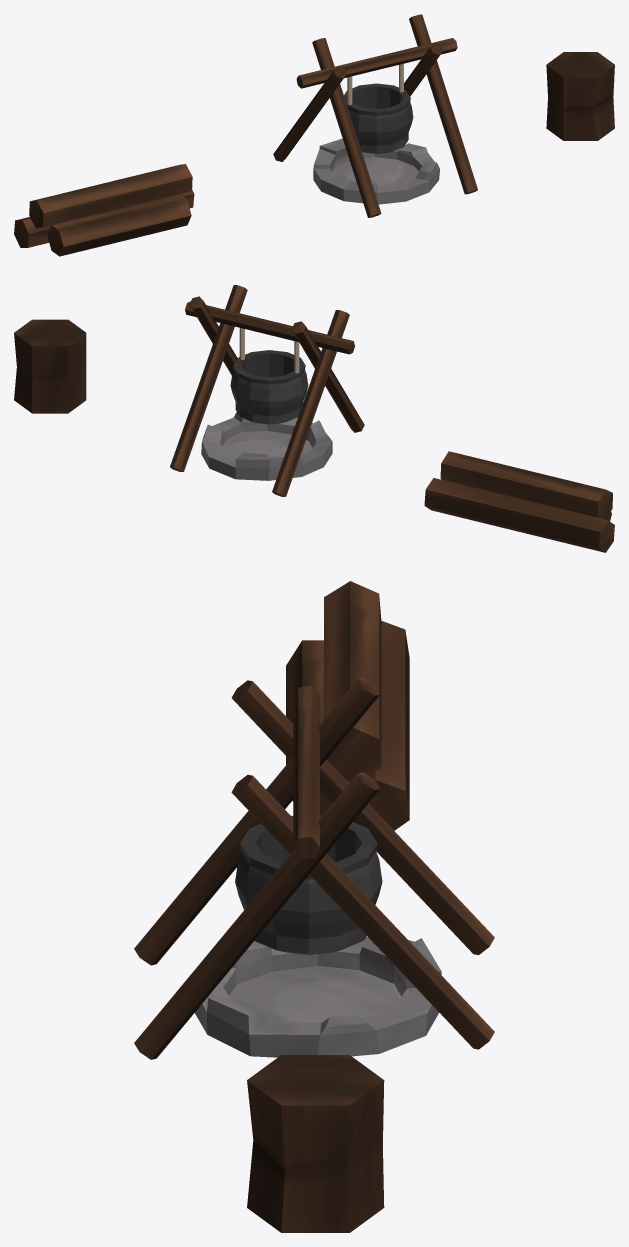
File: camp.glb
3 renders of one model, top to bottom at view 1: azimuth 30°, elevation 25°; view 2: azimuth 150°, elevation 25°; view 3: azimuth 270°, elevation 25°, orthographic. The views are drawn at different scales.
Visible parts, largest first — view 1: Object_2; view 2: Object_2; view 3: Object_2.
Boxes of the visible parts, x1,y1,x2,y2 form: Object_2: [14, 14, 614, 256]; Object_2: [14, 285, 614, 552]; Object_2: [134, 581, 494, 1232].
Size of the model in its own units: 19.15 by 4.65 by 5.26.
Materials: 1 (1 with a texture image).
